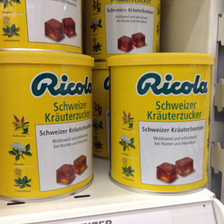candy: (106, 50, 217, 193), (1, 53, 97, 196)
